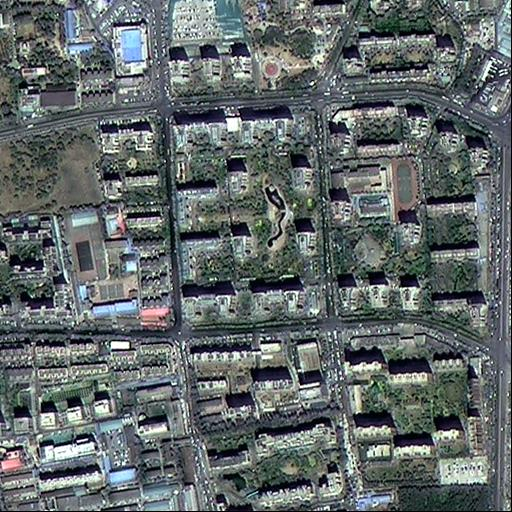school: (327, 154, 421, 214)
